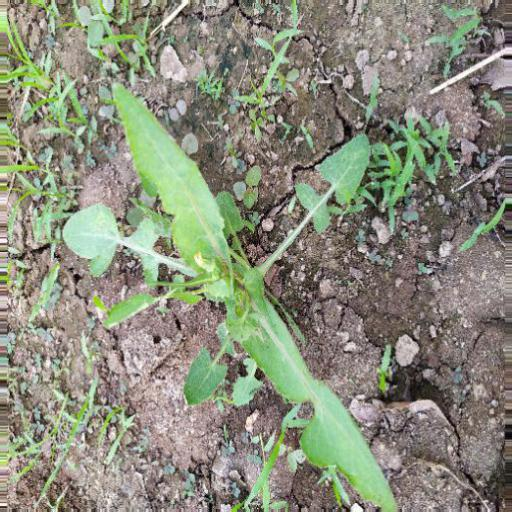weed: (39, 55, 451, 512)
